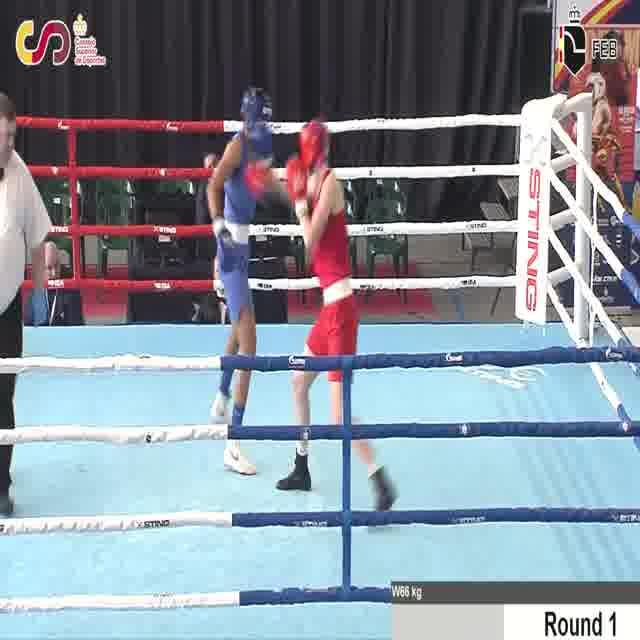blue-player: (202, 84, 278, 478)
red-player: (242, 116, 397, 523)
referee: (0, 88, 54, 520)
